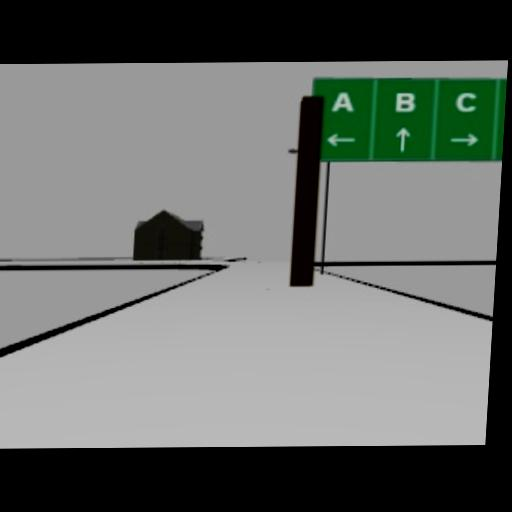A: (331, 89, 355, 109)
B: (394, 91, 415, 111)
C: (454, 90, 477, 111)
Left: (324, 132, 356, 147)
Right: (447, 131, 479, 146)
Straight: (393, 125, 410, 151)
